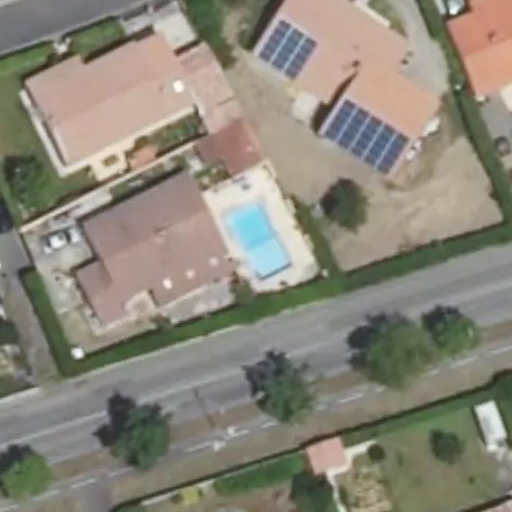pool: (223, 217, 289, 267)
